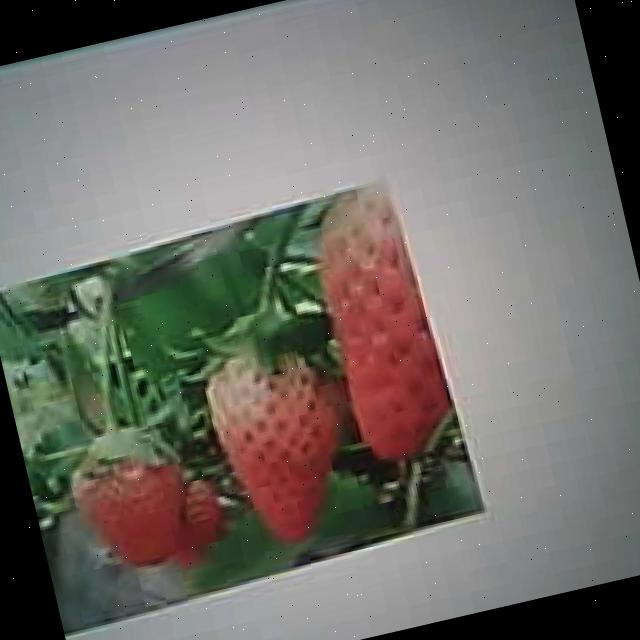strawberry: (307, 183, 464, 463), (202, 336, 356, 548), (66, 438, 200, 576)
